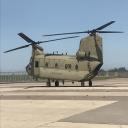helicopter: (5, 22, 126, 88)
